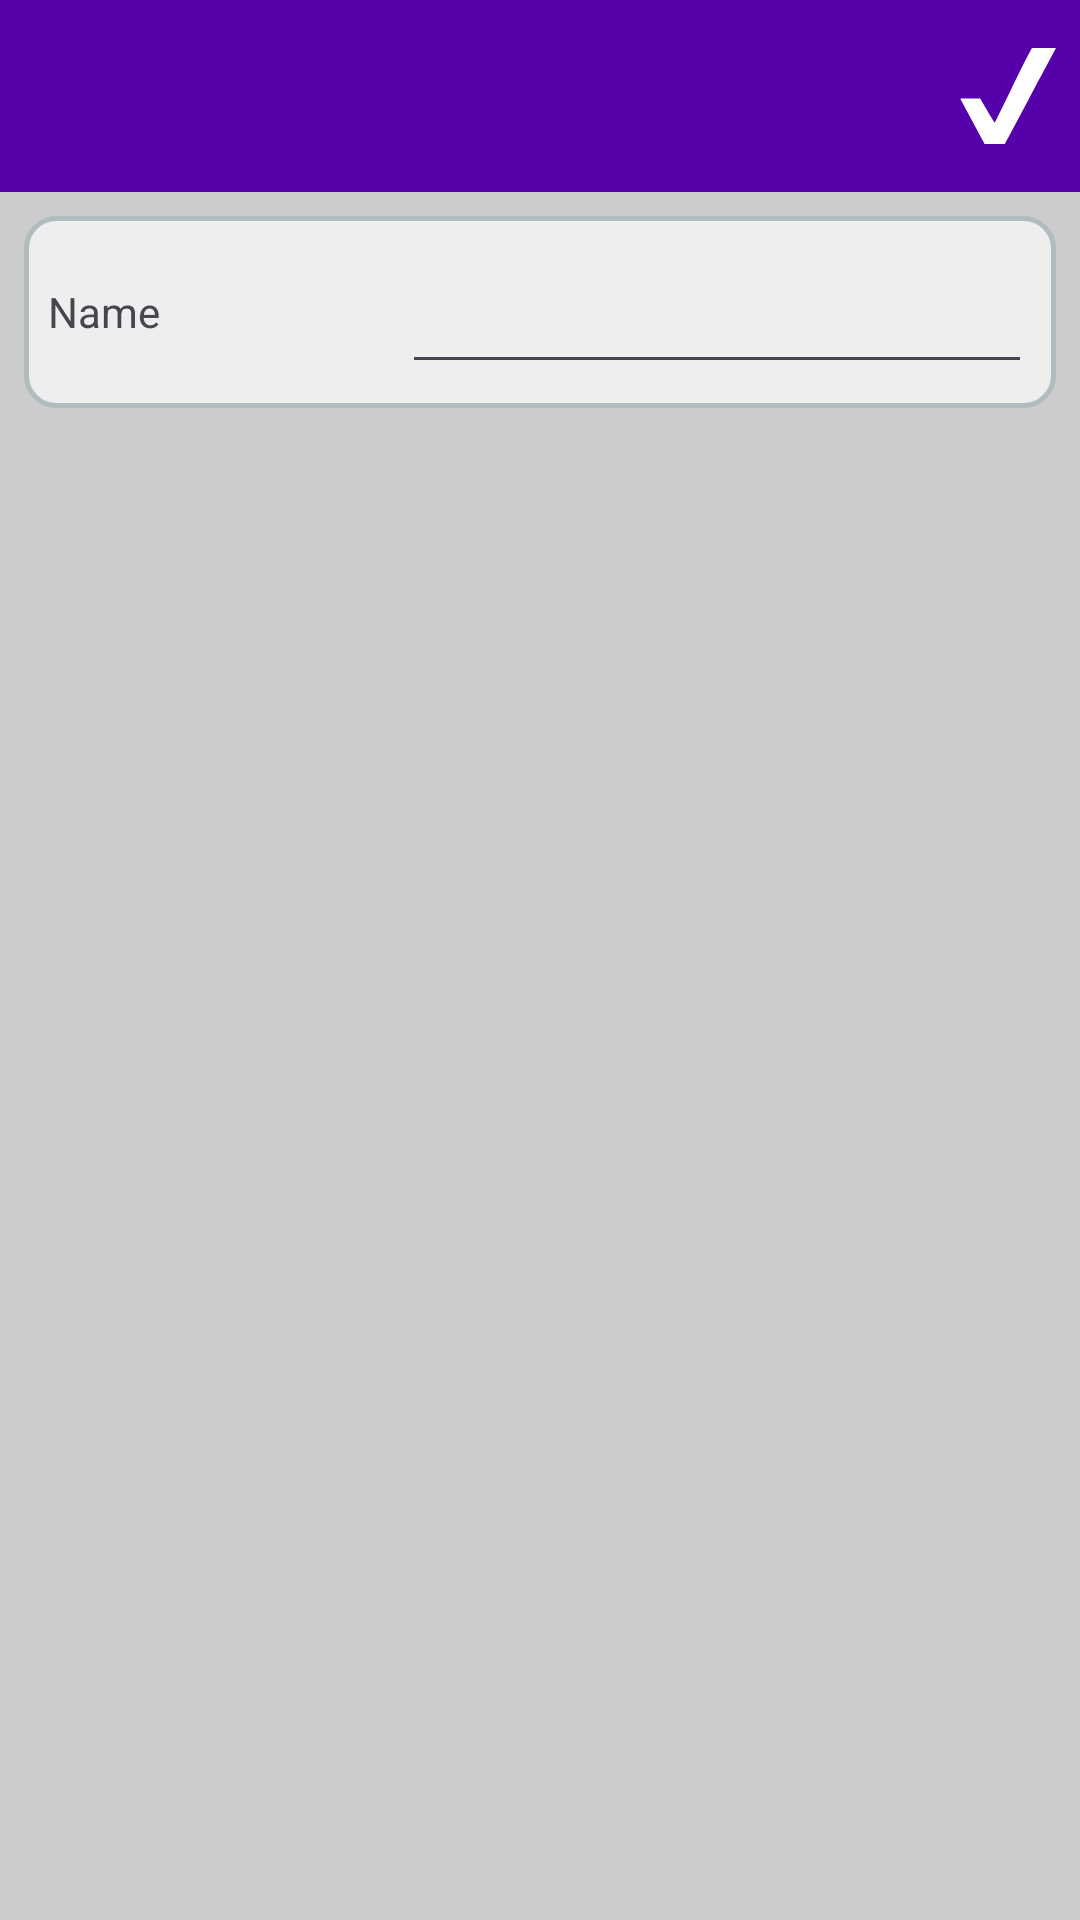

Icon click points for this 1080 x 1920 phone screenshot, format (x=x, y=y):
Confirm: (x=1008, y=96)
